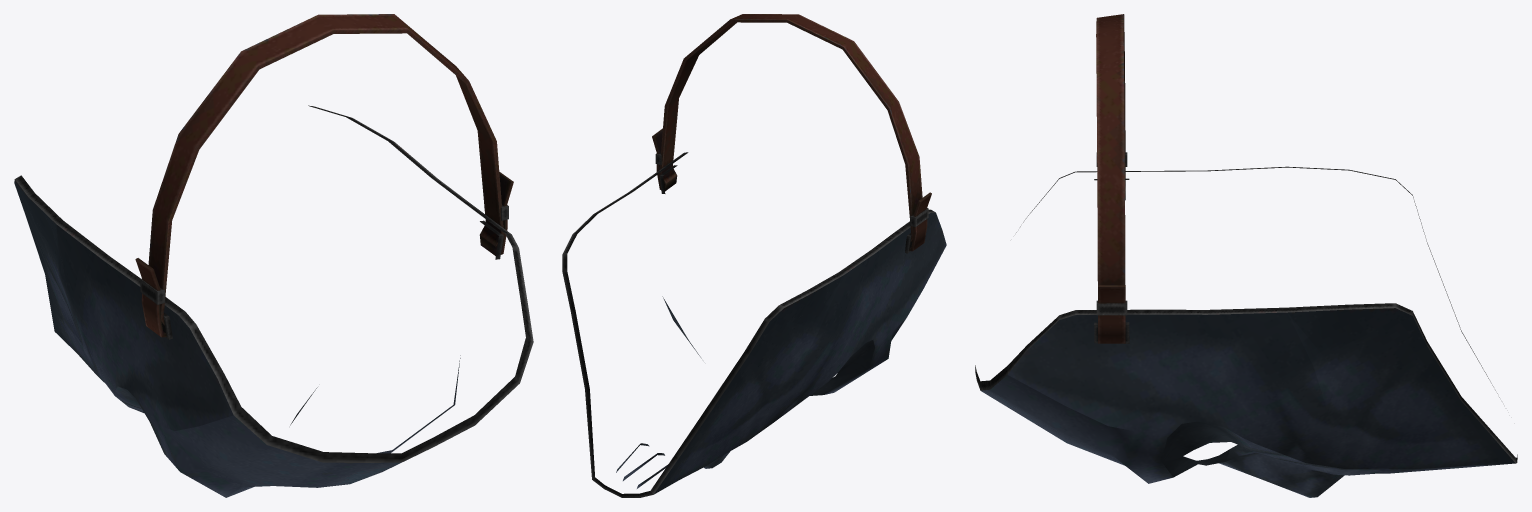
File: hokey.glb
3 renders of one model, left to right at view 1: azimuth 30°, elevation 25°; view 2: azimuth 150°, elevation 25°; view 3: azimuth 270°, elevation 25°, orthographic. The views are drawn at different scales.
Parts seen in each view (by area): view 1: Hokey Fighter; view 2: Hokey Fighter; view 3: Hokey Fighter.
Boxes of the visible parts, x1,y1,x2,y2 form: Hokey Fighter: (14, 14, 533, 497); Hokey Fighter: (562, 14, 946, 497); Hokey Fighter: (975, 14, 1517, 497).
Size of the model in its own units: 0.1863 by 0.2591 by 0.2728.
Materials: 1 (1 with a texture image).
